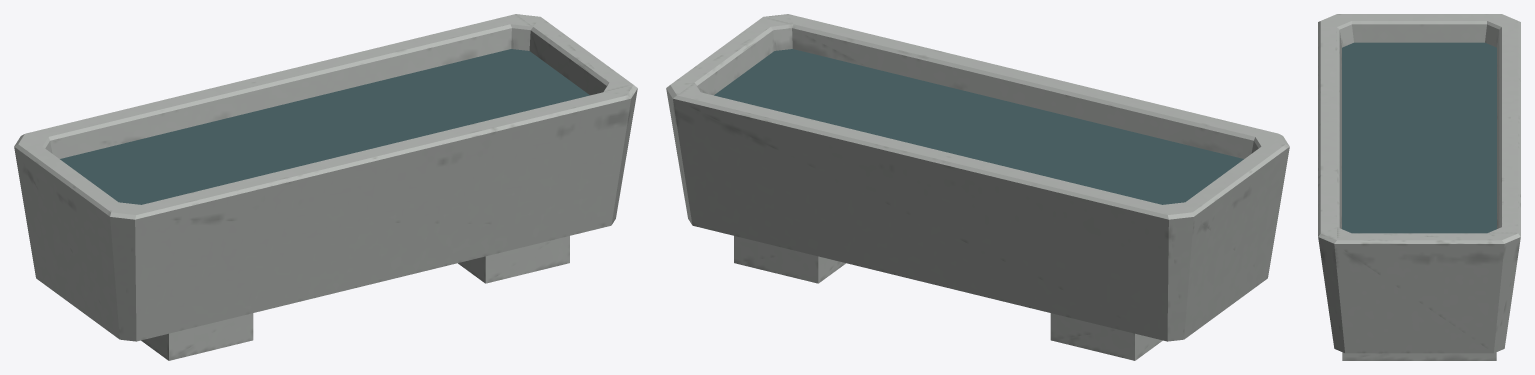
The model's file is farmland_water_trough_filled.glb.
3 views of the same model, side by side, from view 1: azimuth 30°, elevation 25°; view 2: azimuth 150°, elevation 25°; view 3: azimuth 270°, elevation 25° (orthographic). The views are drawn at different scales.
Parts seen in each view (by area): view 1: WaterTroughFilled, TroughWater; view 2: WaterTroughFilled, TroughWater; view 3: WaterTroughFilled, TroughWater.
Part boxes in pixels (left/top/right/bottom): WaterTroughFilled: left=14, top=14, right=637, bottom=360; TroughWater: left=60, top=49, right=589, bottom=204; WaterTroughFilled: left=666, top=14, right=1289, bottom=360; TroughWater: left=714, top=49, right=1243, bottom=204; WaterTroughFilled: left=1318, top=14, right=1520, bottom=360; TroughWater: left=1342, top=42, right=1496, bottom=233.
Size of what is drawn, in the model's own units: 2 by 0.6 by 0.75.
2 materials, 1 textured.
